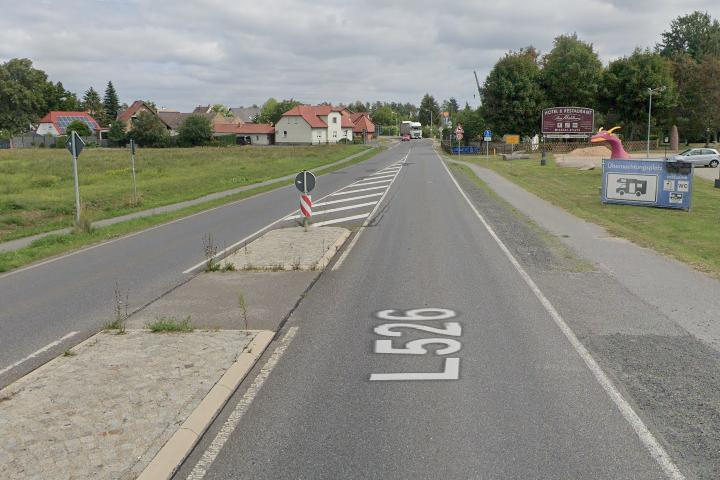traffic_sign: (454, 124, 465, 133)
vehicle: (667, 145, 720, 171), (399, 120, 424, 140)
